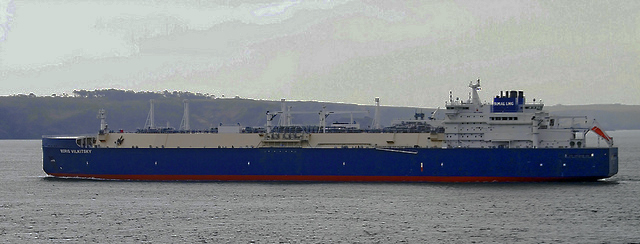LNG_ship: (40, 79, 621, 191)
